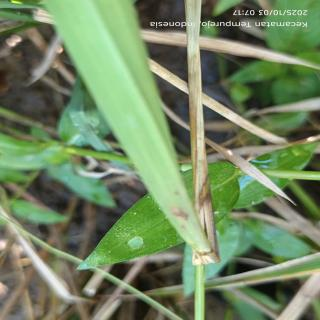Busuk-Pelepah: (199, 175, 213, 211)
